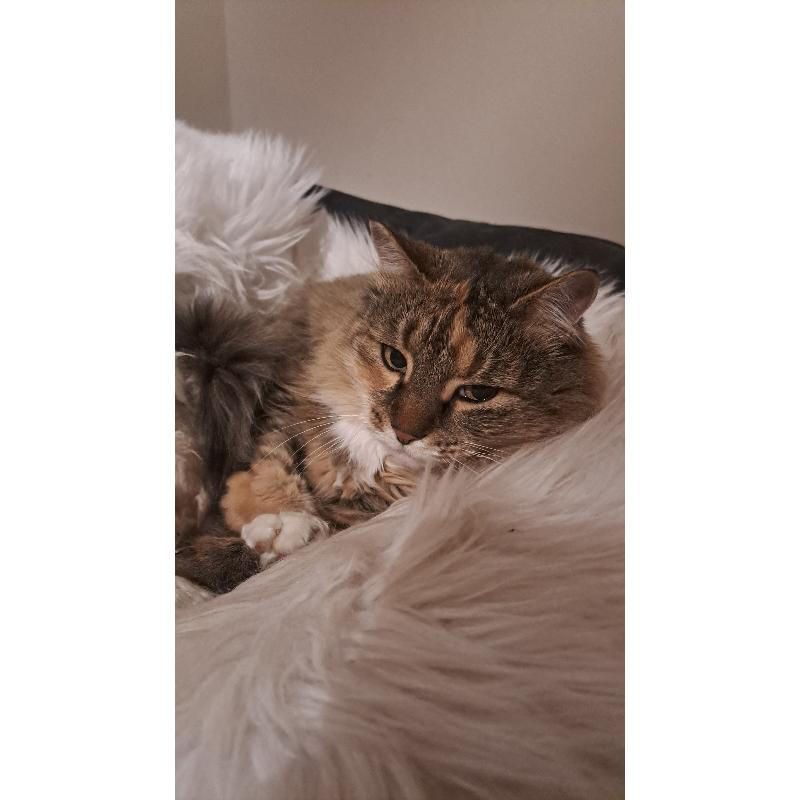yellow: (175, 220, 605, 594)
